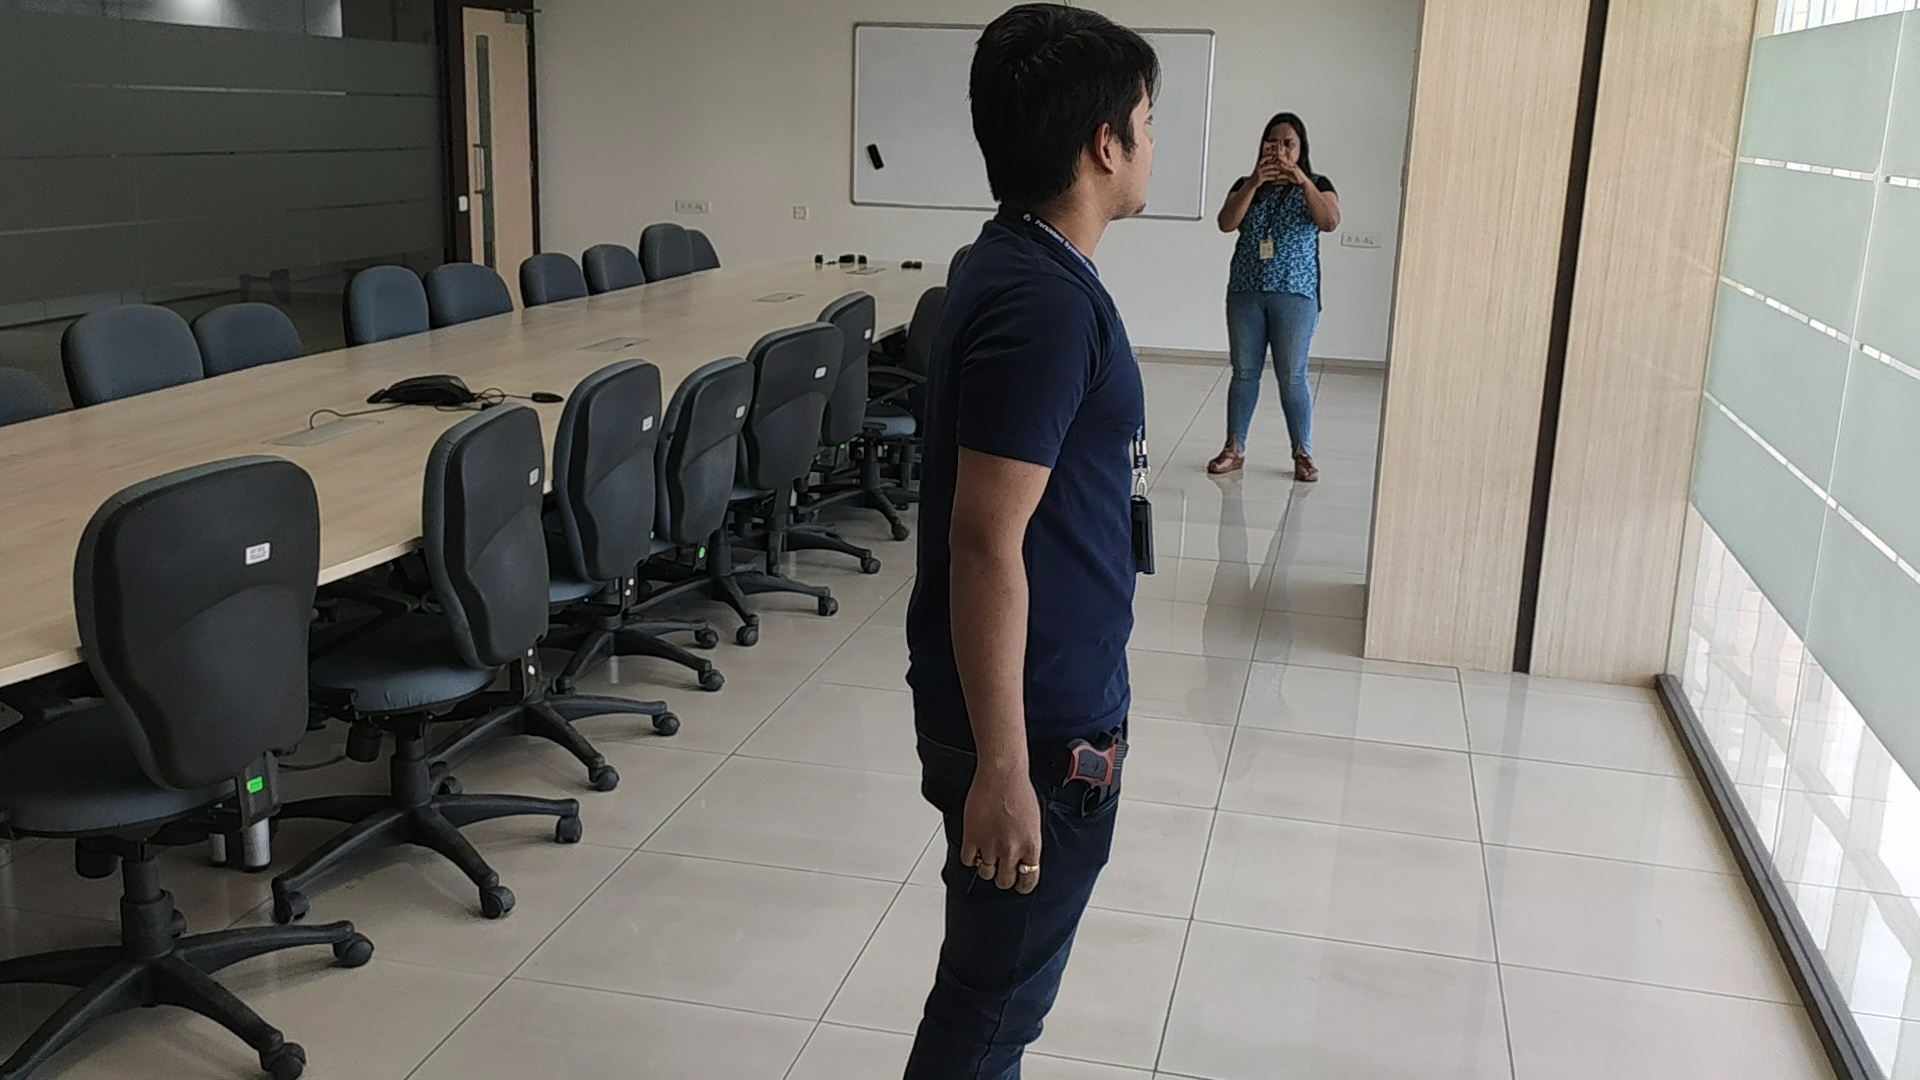gun: (1062, 728, 1130, 818)
